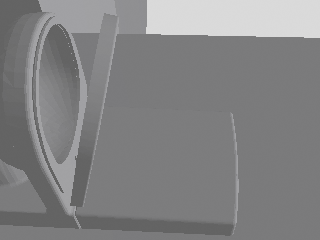lid_1: (70, 14, 118, 206)
